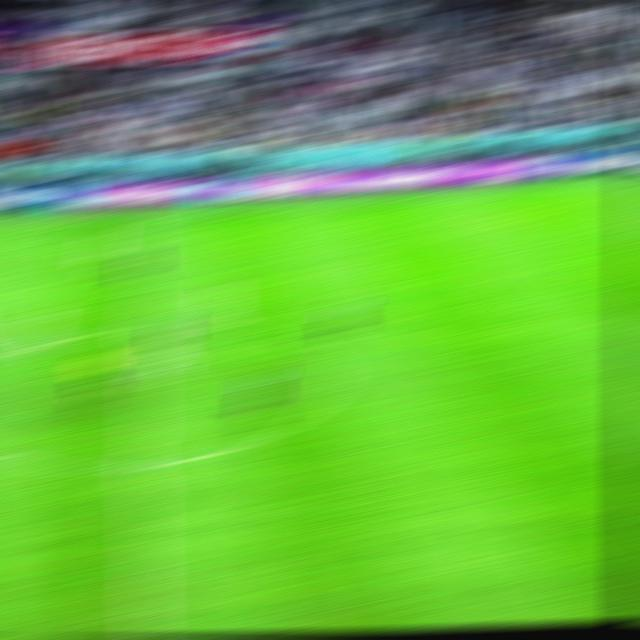halfcircle_bottom: (119, 450, 165, 480)
halfcircle_top: (122, 319, 161, 337)
midline_top_intersection: (122, 209, 158, 224)
